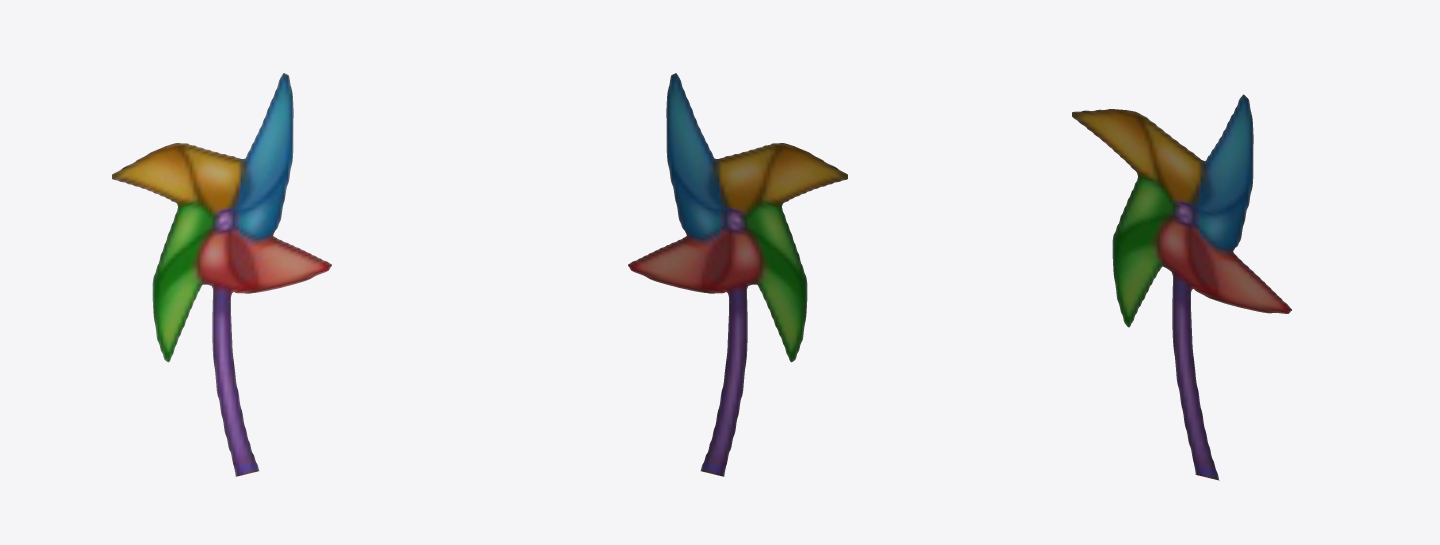
File: pinwheel.glb
The picture shows the model from 3 angles, left to right: view 1: azimuth 30°, elevation 25°; view 2: azimuth 150°, elevation 25°; view 3: azimuth 330°, elevation 25°; orthographic projection.
Parts seen in each view (by area): view 1: partyDecoration_Pinwheel__billboard; view 2: partyDecoration_Pinwheel__billboard; view 3: partyDecoration_Pinwheel__billboard.
Part boxes in pixels (x1,y1,x2,y2): partyDecoration_Pinwheel__billboard: [112, 73, 331, 476]; partyDecoration_Pinwheel__billboard: [628, 73, 847, 476]; partyDecoration_Pinwheel__billboard: [1072, 94, 1291, 480].
Size of the model in its own units: 7.12 by 6.12 by 0.
Materials: 1 (1 with a texture image).
